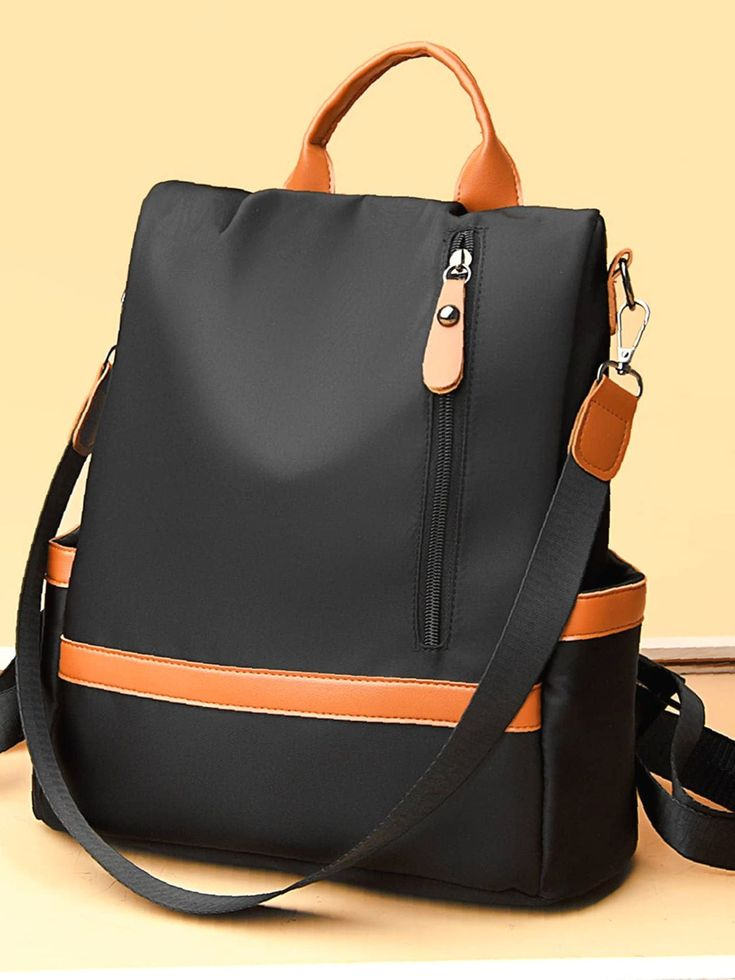nylon: (14, 179, 641, 919)
